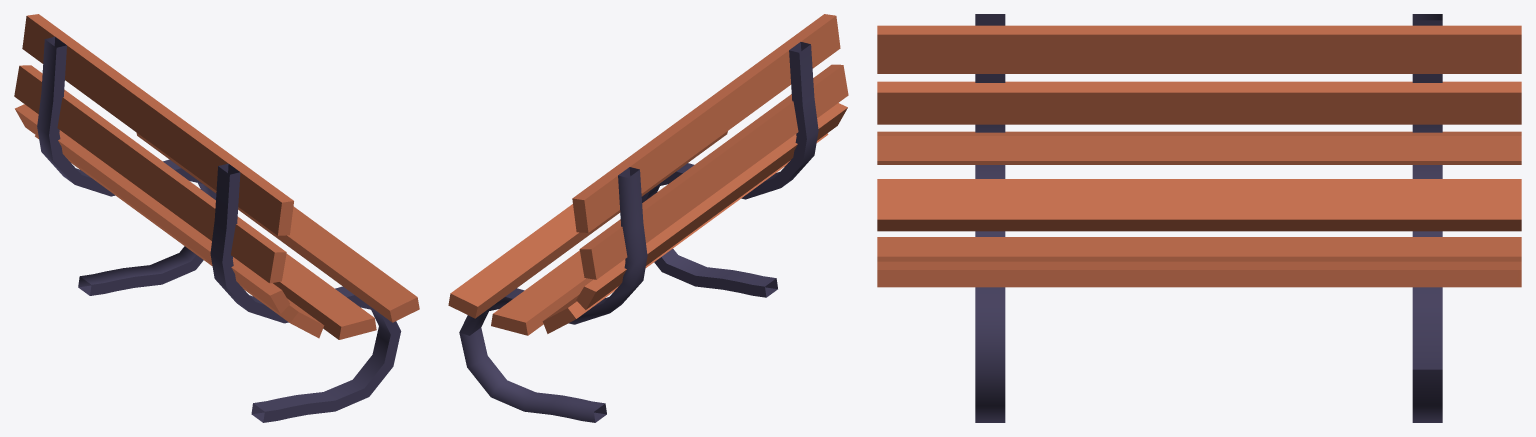
The model's file is banc.fbx.
The picture shows the model from 3 angles, left to right: view 1: azimuth 30°, elevation 25°; view 2: azimuth 150°, elevation 25°; view 3: azimuth 270°, elevation 25°; orthographic projection. The views are drawn at different scales.
Visible parts, largest first — view 1: Cube, BézierCurve.001, BézierCurve; view 2: Cube, BézierCurve, BézierCurve.001; view 3: Cube, BézierCurve, BézierCurve.001.
Boxes of the visible parts, bbox=[...] form: Cube: bbox=[14, 14, 419, 339]; BézierCurve.001: bbox=[210, 163, 401, 422]; BézierCurve: bbox=[37, 36, 216, 295]; Cube: bbox=[448, 14, 848, 335]; BézierCurve: bbox=[459, 167, 647, 422]; BézierCurve.001: bbox=[641, 42, 818, 297]; Cube: bbox=[877, 25, 1521, 287]; BézierCurve: bbox=[1412, 14, 1442, 422]; BézierCurve.001: bbox=[975, 14, 1005, 422].
Bounding box in the file's own units: 135 × 190 × 335.
